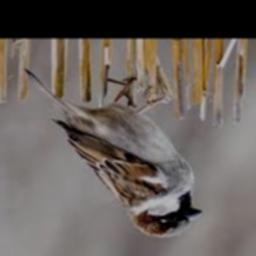Sparrow: (24, 69, 203, 239)
